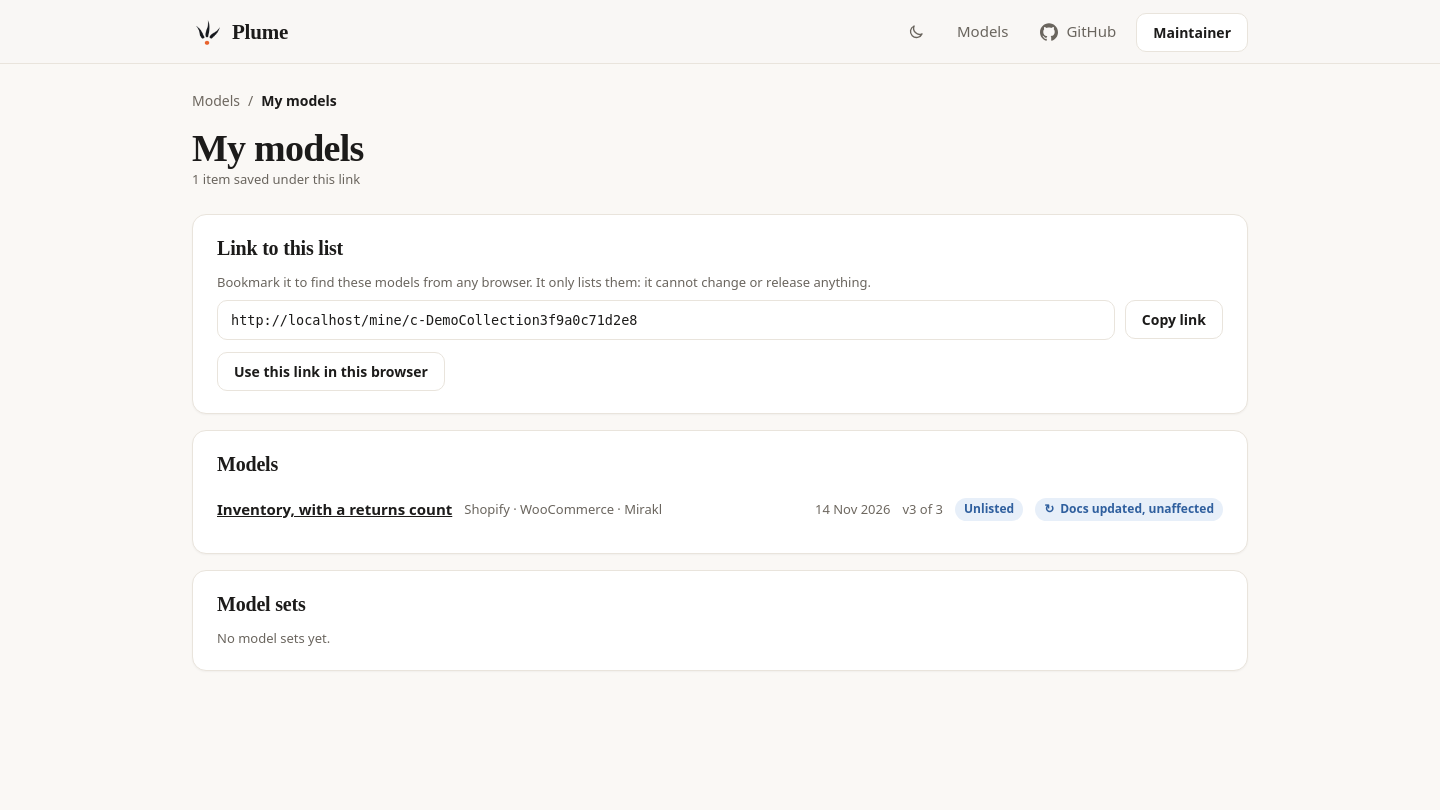
Test: the My models page (/mine/<id>) › opening it does not change this browser; "Use this link in this browser" does
Check: the element "Models" is shown, box left=192, top=430, right=1248, bottom=554
Click the button "Use this link in this browser".
click(331, 371)  # box left=217, top=352, right=445, bottom=391
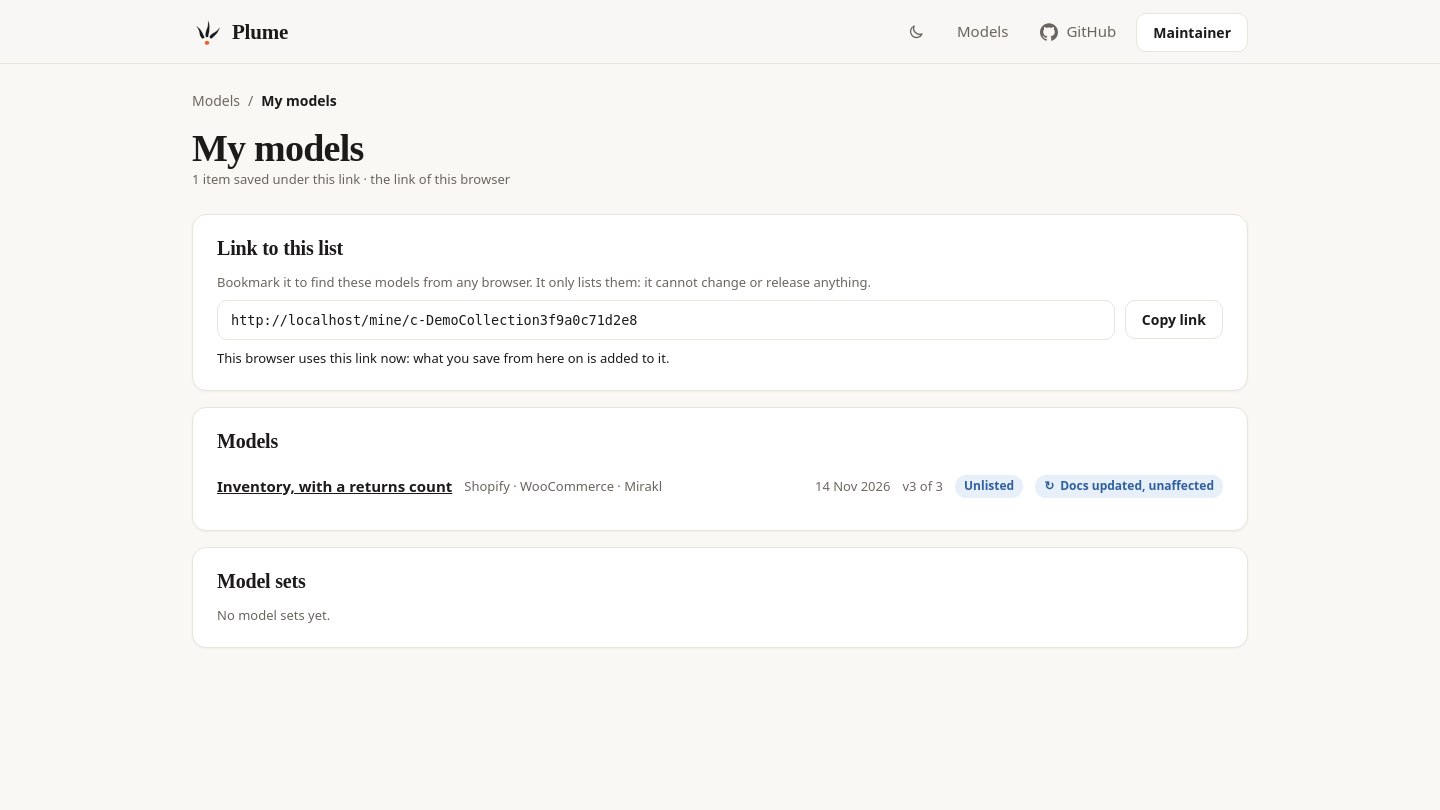
Check: the text "This browser uses this link now: what you save from here on is added to it." is shown, box left=217, top=349, right=669, bottom=367
